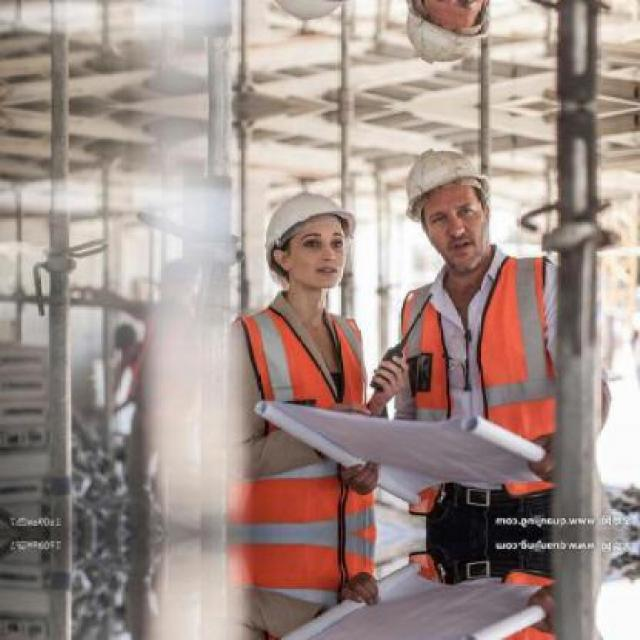Reflective-Jacket: (214, 298, 381, 606), (390, 248, 578, 518)
Safety-Helmet: (246, 182, 366, 270), (390, 136, 504, 224)
